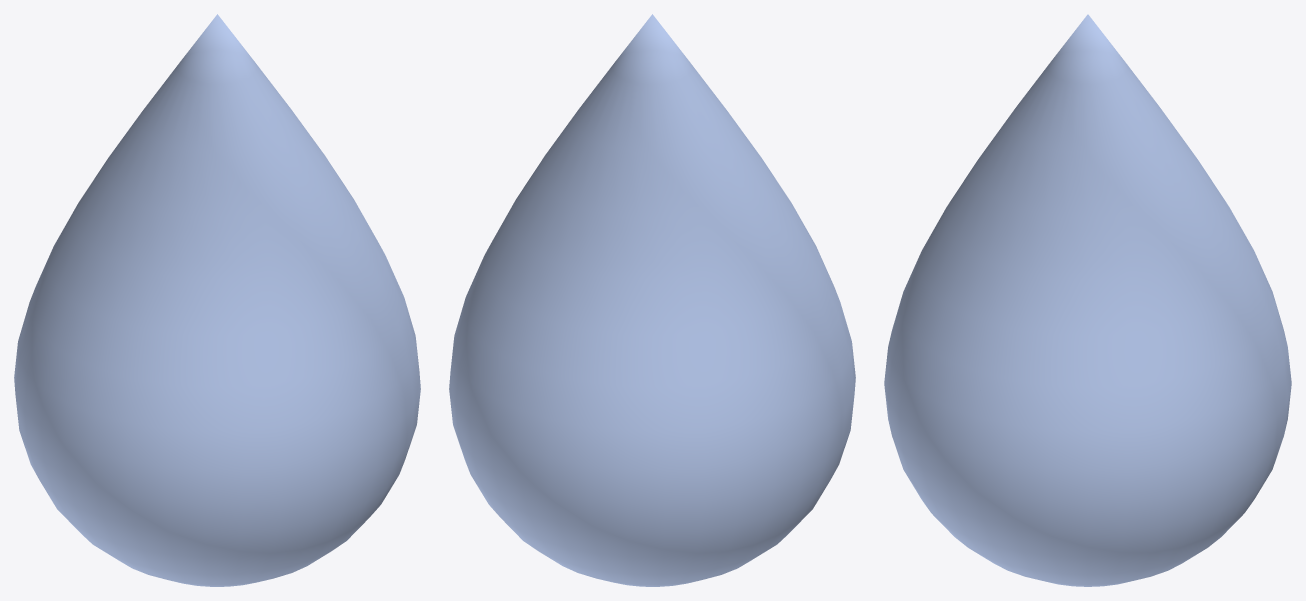
Rendered from water2.glb.
The picture shows the model from 3 angles, left to right: view 1: azimuth 30°, elevation 25°; view 2: azimuth 150°, elevation 25°; view 3: azimuth 270°, elevation 25°; orthographic projection.
Visible parts, largest first — view 1: Sphere; view 2: Sphere; view 3: Sphere.
Part boxes in pixels (bbox=[...]): Sphere: bbox=[14, 14, 420, 586]; Sphere: bbox=[449, 14, 855, 586]; Sphere: bbox=[884, 14, 1291, 586].
Bounding box in the file's own units: 2 × 3 × 2.
